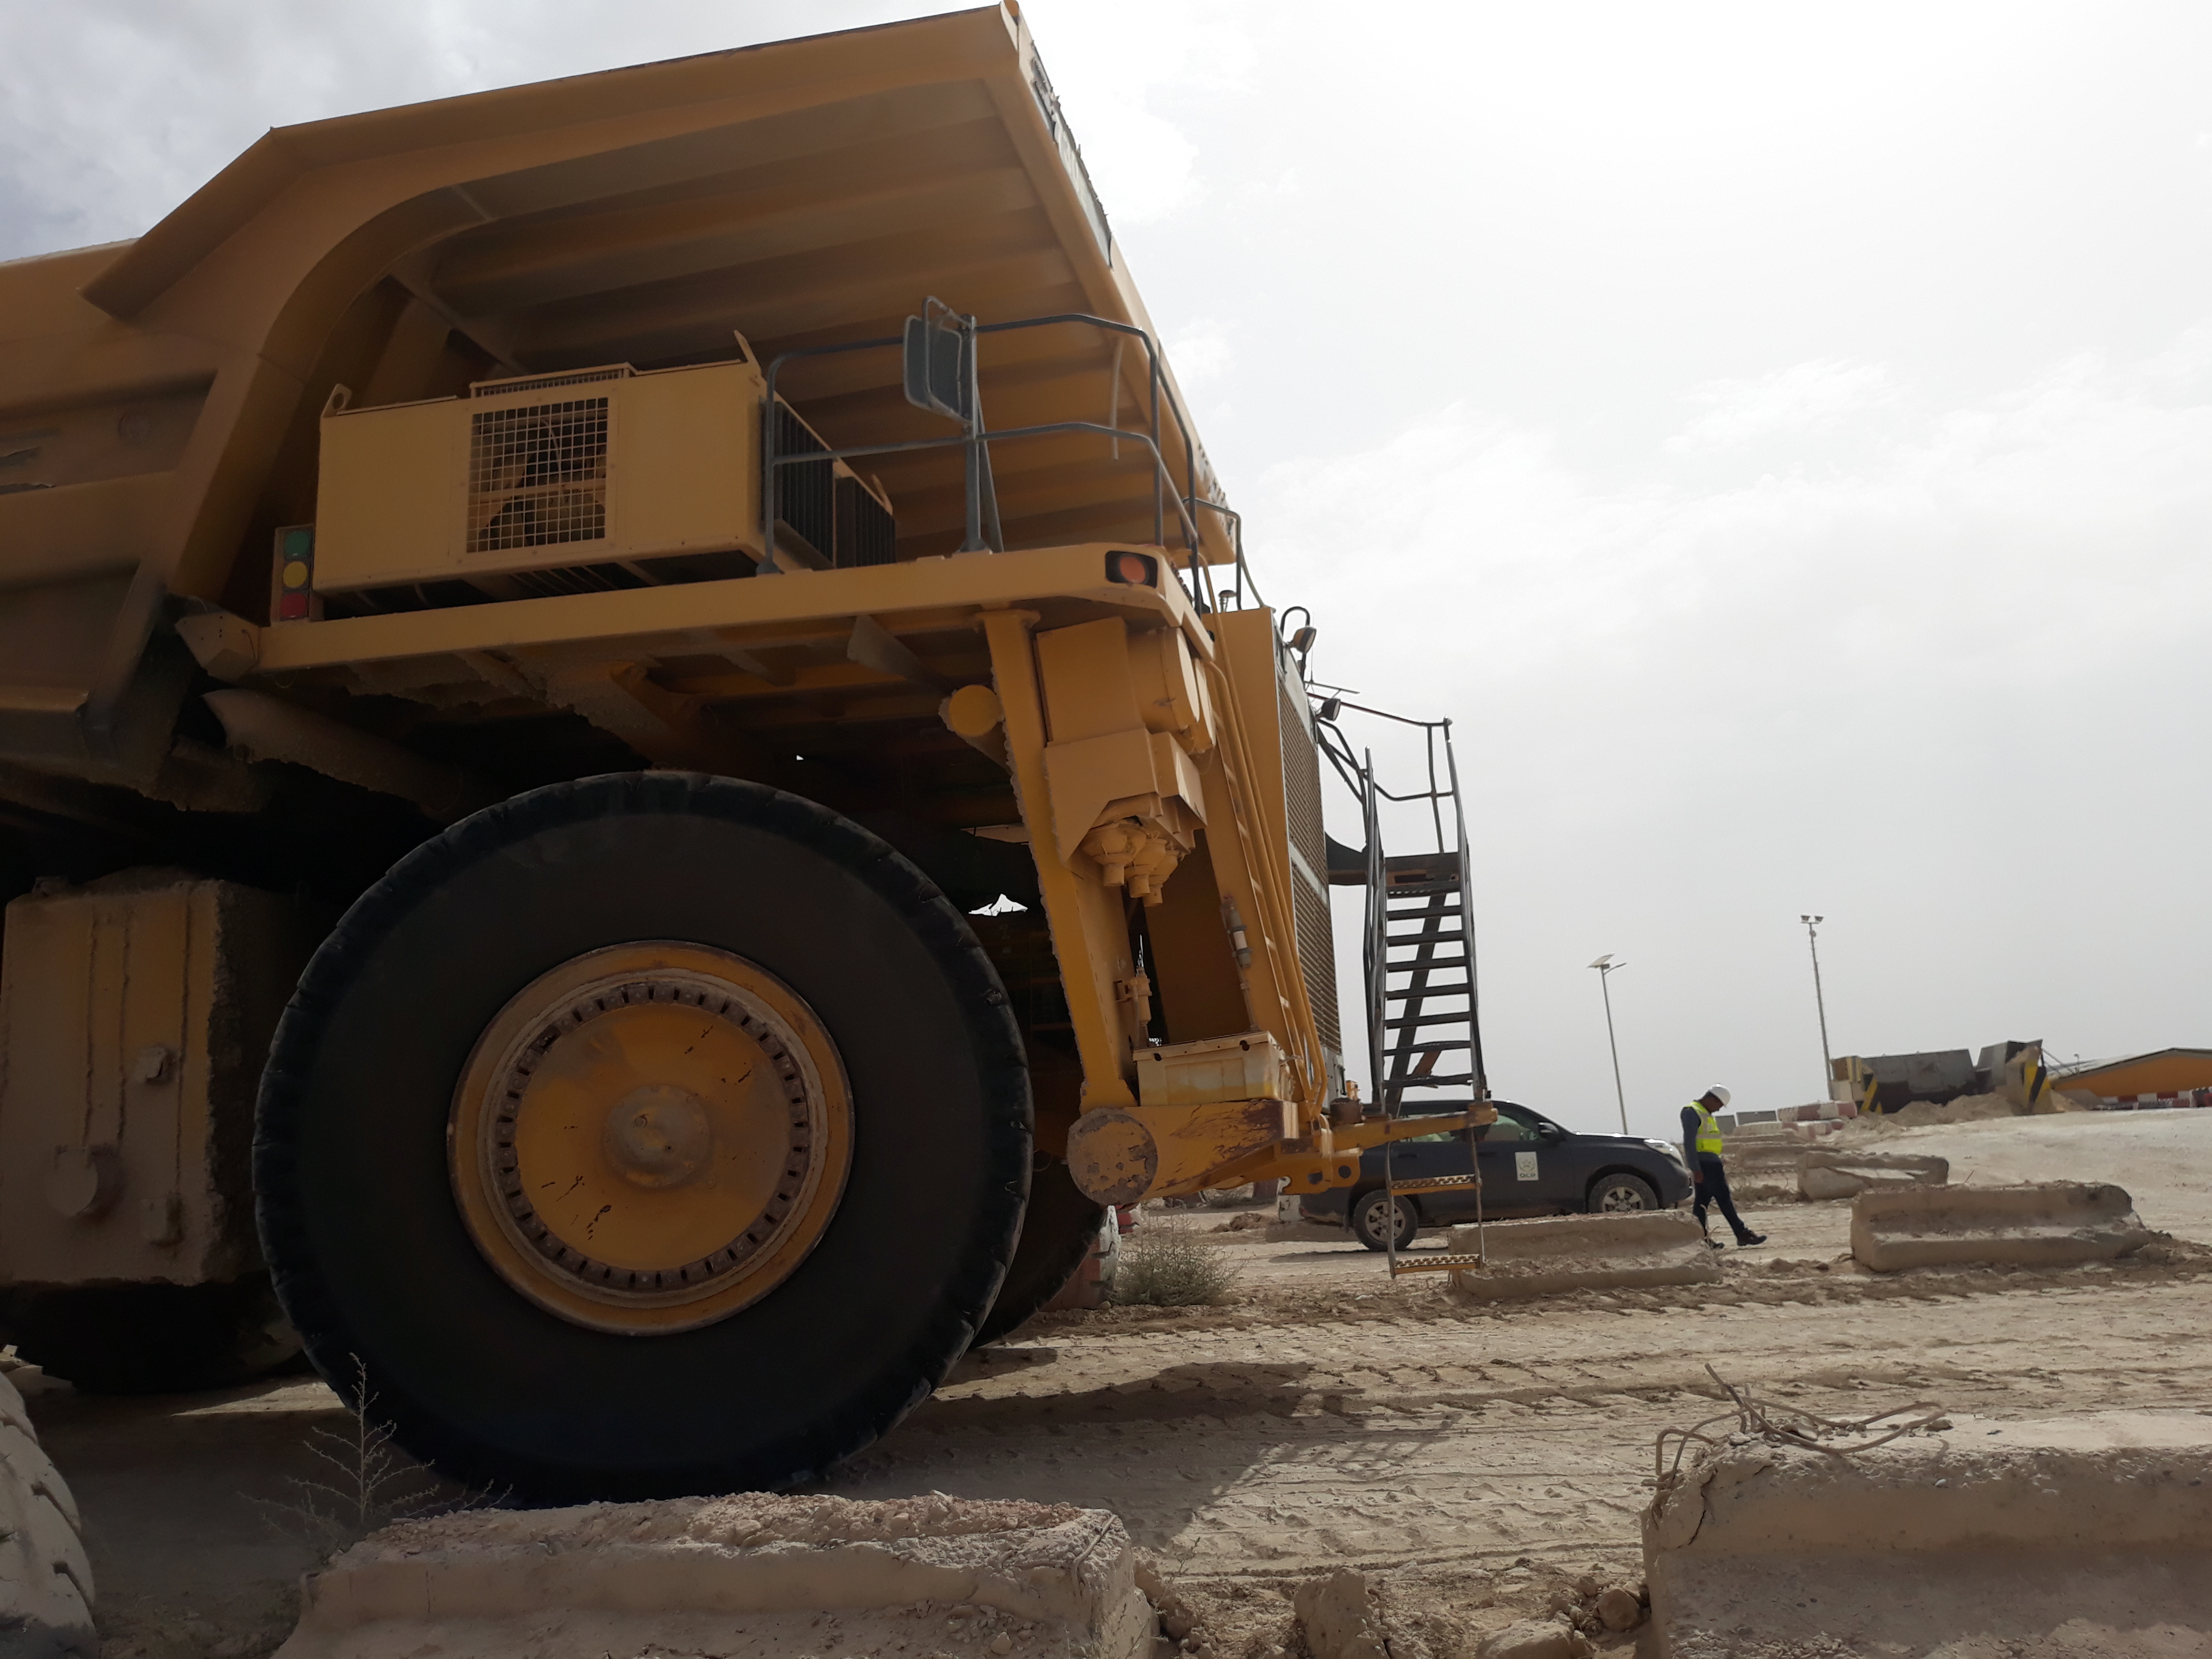camion: (1, 14, 1486, 1500)
car: (1281, 1081, 1723, 1267)
person: (1676, 1077, 1773, 1271)
